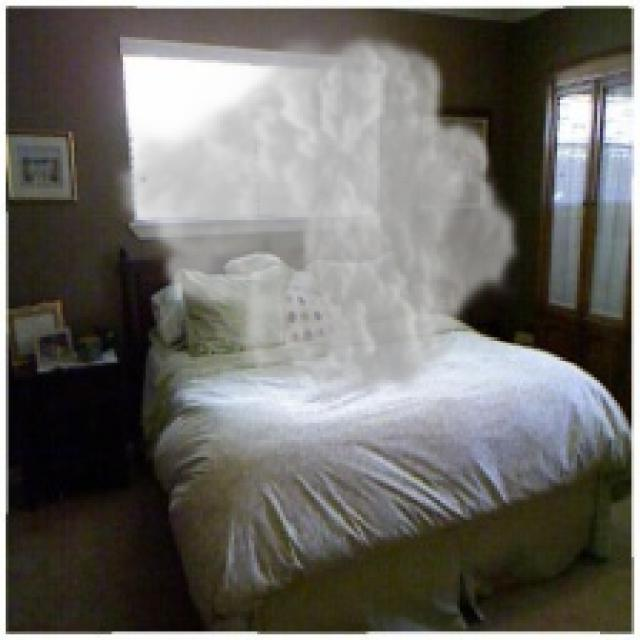Smoke: (111, 26, 523, 403)
